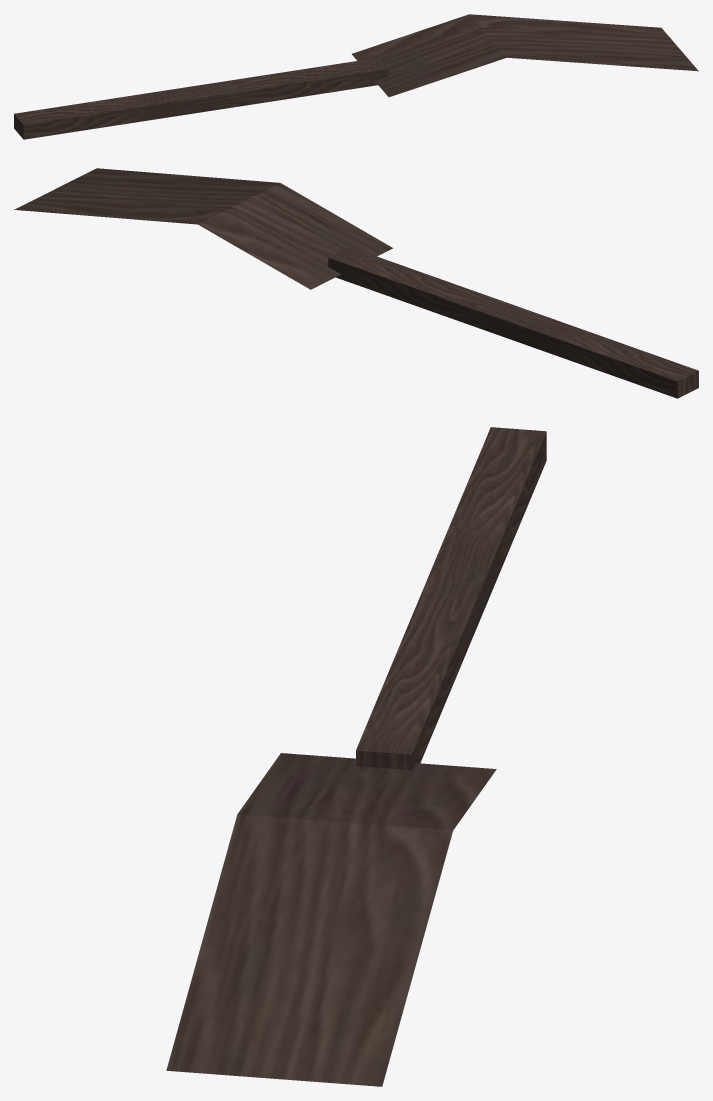
The picture shows the model from 3 angles, top to bottom: view 1: azimuth 30°, elevation 25°; view 2: azimuth 150°, elevation 25°; view 3: azimuth 270°, elevation 25°; orthographic projection. The views are drawn at different scales.
Visible parts, largest first — view 1: Cube073_Cutlery001_0; view 2: Cube073_Cutlery001_0; view 3: Cube073_Cutlery001_0.
Boxes of the visible parts, x1,y1,x2,y2 form: Cube073_Cutlery001_0: (14,14,698,139); Cube073_Cutlery001_0: (14,168,698,398); Cube073_Cutlery001_0: (166,427,546,1086).
Bounding box in the file's own units: 0.2762 × 0.0186 × 0.0745.
Materials: 1 (1 with a texture image).
